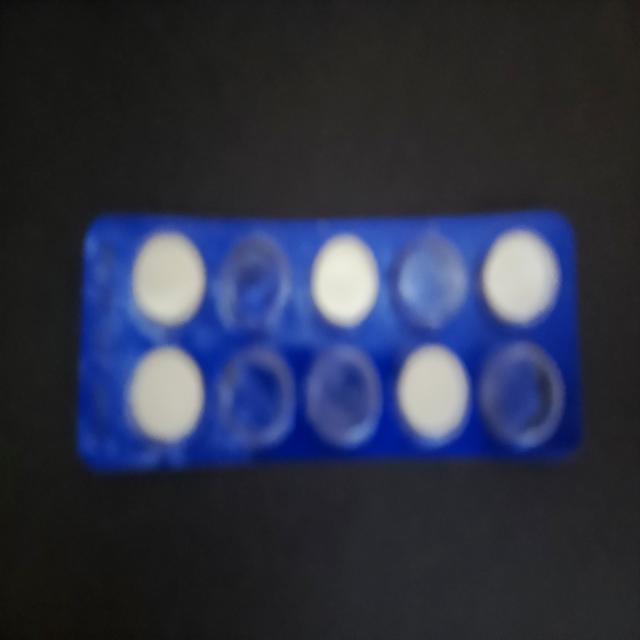defect: (476, 335, 569, 453), (302, 340, 386, 454), (213, 343, 299, 453), (387, 226, 471, 334), (214, 234, 294, 339)
